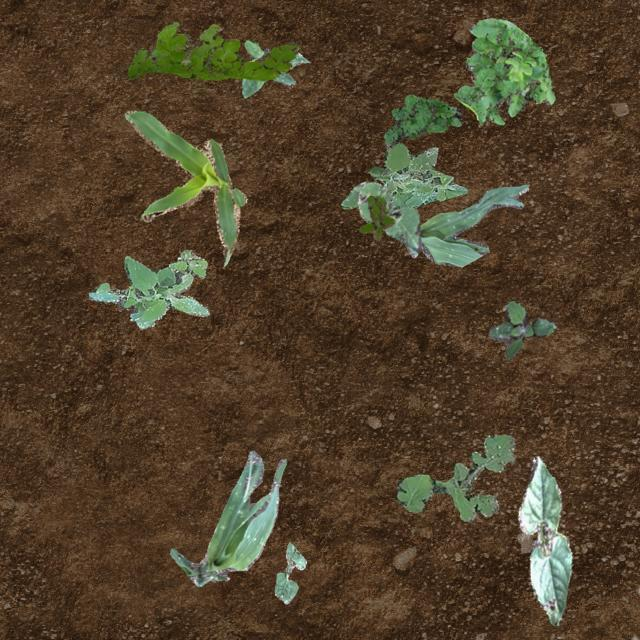crop: (124, 110, 245, 264), (168, 450, 284, 586), (401, 184, 527, 266), (516, 454, 572, 624), (352, 180, 420, 250), (274, 542, 306, 602)
weed: (452, 16, 554, 126), (126, 20, 298, 80), (396, 434, 516, 520), (88, 248, 208, 328), (340, 142, 466, 208), (382, 94, 460, 148), (240, 38, 308, 96), (488, 300, 554, 358), (358, 194, 393, 240)
